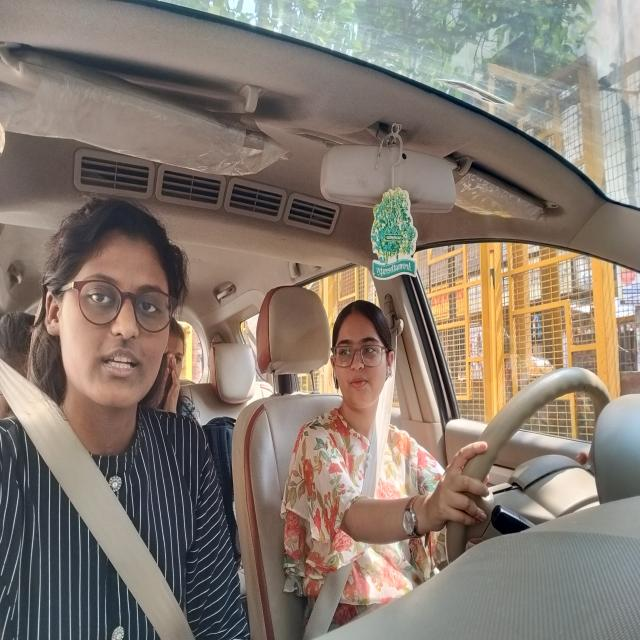LeftRight: (322, 292, 412, 467)
person: (38, 194, 189, 438), (167, 316, 196, 425)
